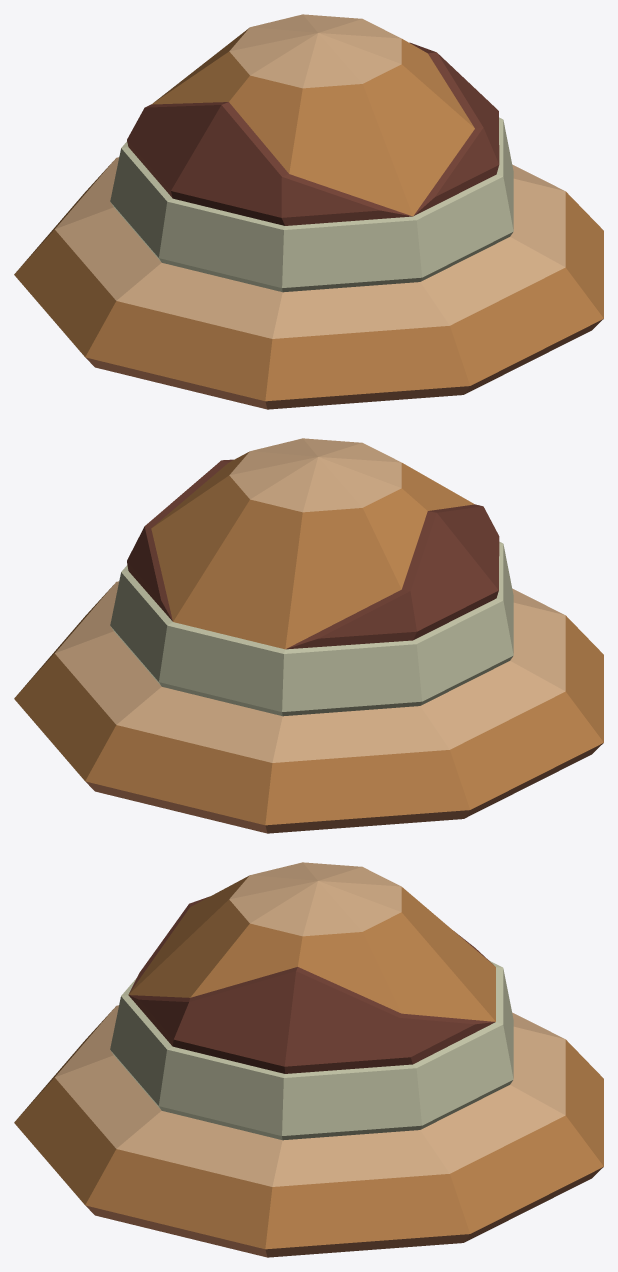
Rendered from Porter_Gorro.FBX.
The picture shows the model from 3 angles, top to bottom: view 1: azimuth 30°, elevation 25°; view 2: azimuth 150°, elevation 25°; view 3: azimuth 270°, elevation 25°; orthographic projection.
Parts seen in each view (by area): view 1: Object; view 2: Object; view 3: Object.
Boxes of the visible parts, box(x1,y1,x2,y2) form: Object: box(14, 14, 603, 409); Object: box(14, 438, 603, 833); Object: box(14, 862, 603, 1257).
Size of the model in its own units: 298 by 140 by 293.
